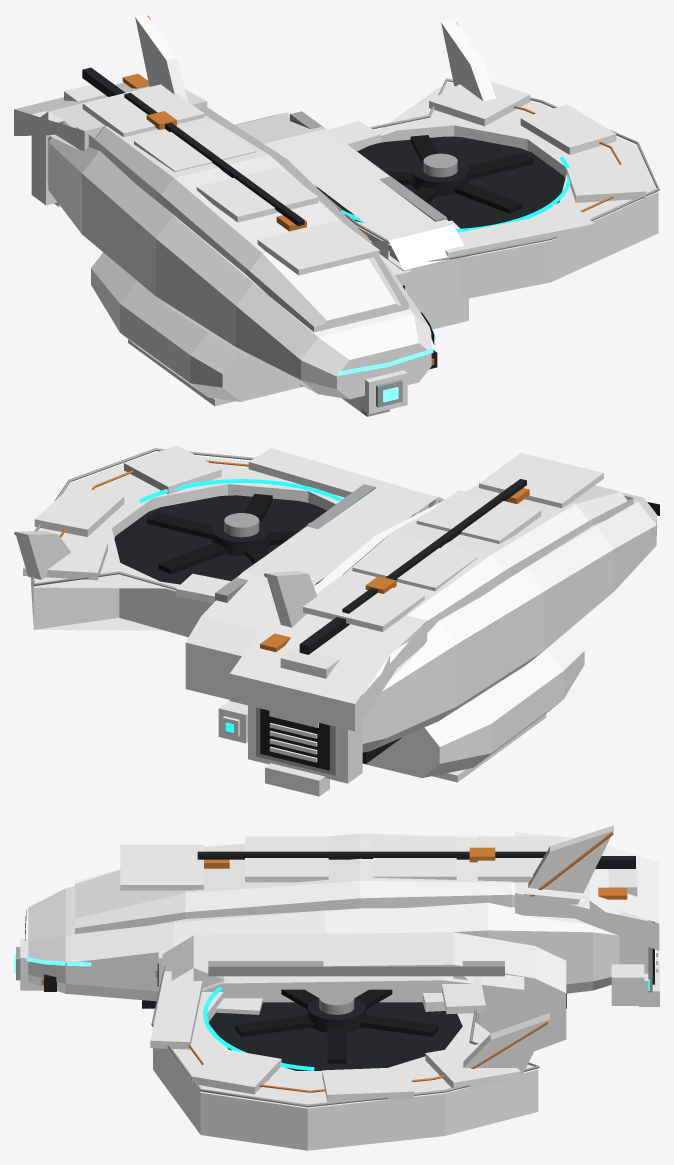
File: morrowgear-family-a-field-v3.glb
The picture shows the model from 3 angles, top to bottom: view 1: azimuth 30°, elevation 25°; view 2: azimuth 150°, elevation 25°; view 3: azimuth 270°, elevation 25°; orthographic projection. The views are drawn at different scales.
Visible parts, largest first — view 1: F01_Fuselage, F02_UpperArmor, W02_DuctWing.R, FLD_CarrierPod.R, FLD_MissionBay, R02_InnerWell.R, F02_TopPanel_0, F02_TopPanel_1, FLD_RearDeck, F02_TopPanel_3, W02_ArmorPanel_0.R, F02_TopPanel_2 (+17 smaller); view 2: F01_Fuselage, W02_DuctWing.R, FLD_CarrierPod.R, FLD_RearDeck, F02_UpperArmor, FLD_MissionBay, R02_InnerWell.R, F02_TopPanel_0, F02_TopPanel_3, F02_TopPanel_1, F02_TopPanel_2, W02_ArmorPanel_0.R (+22 smaller); view 3: F01_Fuselage, W02_DuctWing.R, F02_UpperArmor, FLD_CarrierPod.R, R02_InnerWell.R, FLD_PodArmor.R, FLD_RearDeck, FLD_PodRail.R, F02_TopPanel_0, F02_TopPanel_1, T02_CenterFin.R, F02_TopPanel_2 (+21 smaller).
Boxes of the visible parts, x1,y1,x2,y2 form: F01_Fuselage: (47, 121, 431, 399); F02_UpperArmor: (76, 106, 408, 332); W02_DuctWing.R: (311, 82, 658, 299); FLD_CarrierPod.R: (234, 112, 468, 329); FLD_MissionBay: (91, 252, 302, 401); R02_InnerWell.R: (317, 136, 565, 228); F02_TopPanel_0: (257, 220, 379, 275); F02_TopPanel_1: (196, 167, 318, 222); FLD_RearDeck: (14, 80, 207, 150); F02_TopPanel_3: (82, 84, 204, 137); W02_ArmorPanel_0.R: (445, 209, 594, 256); F02_TopPanel_2: (134, 121, 255, 171); F01_Fuselage: (362, 492, 656, 752); W02_DuctWing.R: (31, 452, 428, 637); FLD_CarrierPod.R: (185, 480, 444, 699); FLD_RearDeck: (229, 593, 427, 731); F02_UpperArmor: (314, 484, 633, 646); FLD_MissionBay: (363, 630, 584, 777); R02_InnerWell.R: (114, 495, 326, 584); F02_TopPanel_0: (479, 453, 603, 508); F02_TopPanel_3: (303, 575, 424, 631); F02_TopPanel_1: (416, 490, 541, 543); F02_TopPanel_2: (352, 537, 477, 591); W02_ArmorPanel_0.R: (248, 448, 406, 497); F01_Fuselage: (28, 886, 619, 1001); W02_DuctWing.R: (153, 967, 538, 1150); F02_UpperArmor: (75, 833, 584, 933); FLD_CarrierPod.R: (162, 932, 566, 1051); R02_InnerWell.R: (209, 1002, 462, 1070); FLD_PodArmor.R: (202, 974, 524, 1027); FLD_RearDeck: (515, 832, 659, 950); FLD_PodRail.R: (208, 961, 504, 976); F02_TopPanel_0: (120, 844, 203, 890); F02_TopPanel_1: (245, 836, 328, 882); T02_CenterFin.R: (524, 825, 613, 904); F02_TopPanel_2: (373, 836, 456, 879).
Size of what is drawn, in the model's own units: 4.8 by 2.39 by 5.55.
